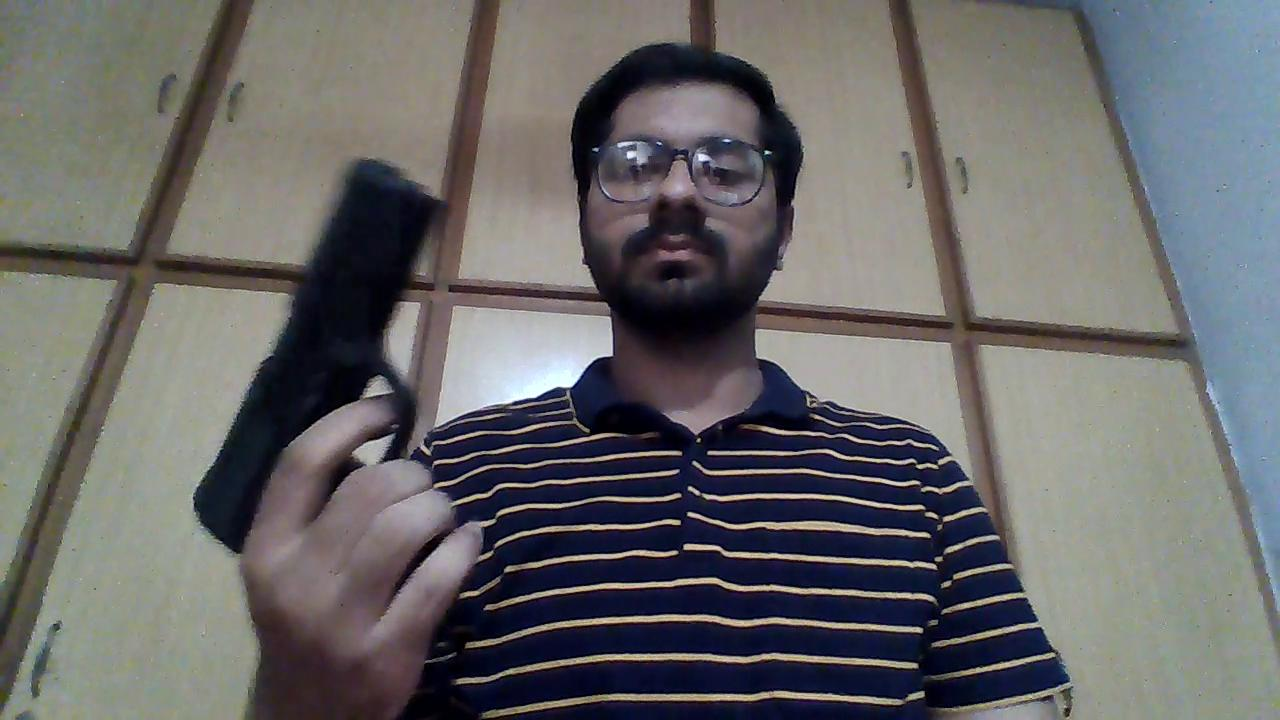criminal: (189, 39, 1074, 720)
weapon: (191, 154, 448, 561)
